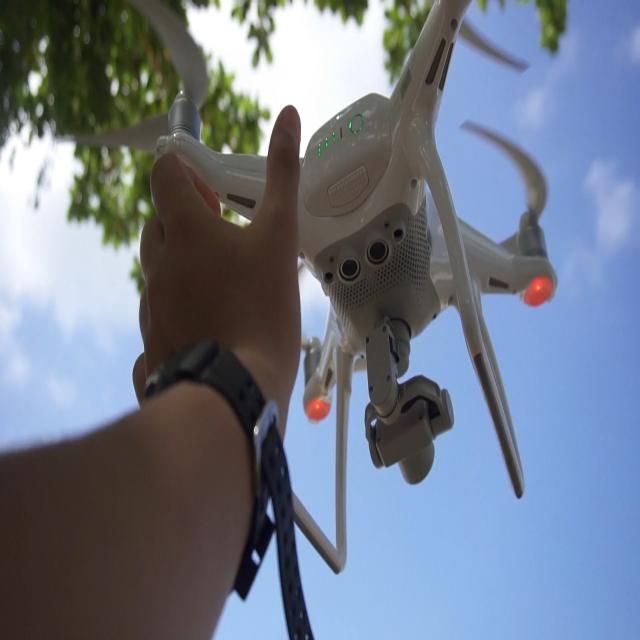Drone: (128, 17, 614, 563)
